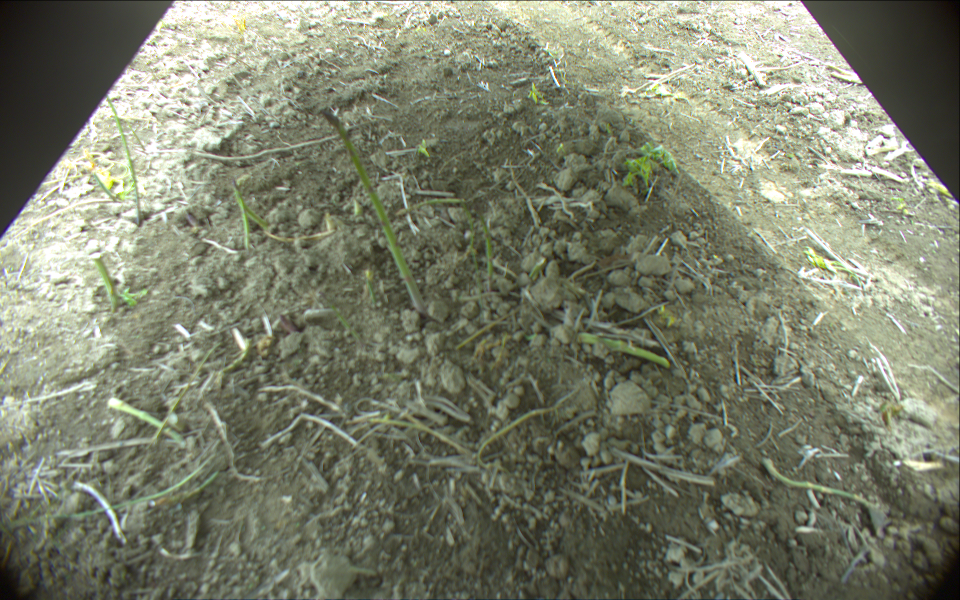aspa: (319, 109, 424, 316), (762, 456, 877, 511), (476, 405, 558, 468), (105, 93, 143, 224), (368, 417, 465, 460), (575, 330, 668, 368), (107, 398, 178, 443), (233, 192, 276, 233), (463, 205, 481, 290), (394, 197, 463, 218), (229, 179, 249, 251), (477, 206, 495, 286), (93, 256, 118, 310), (93, 169, 114, 201), (128, 125, 146, 151)
